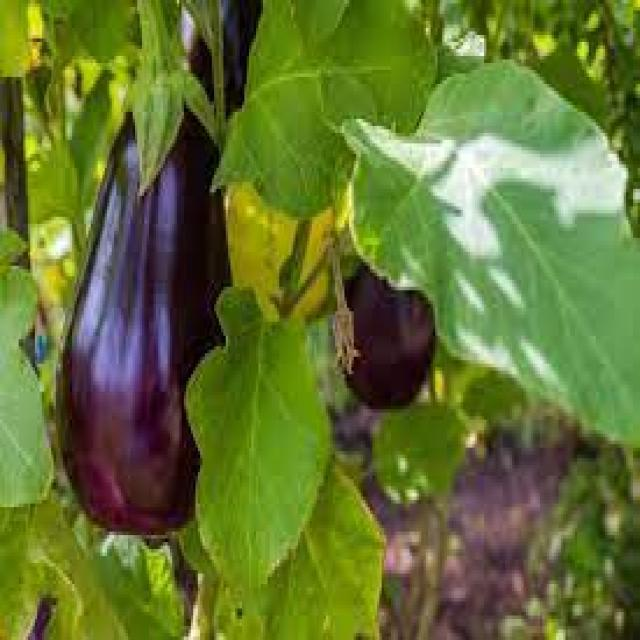Eggplant: (55, 1, 232, 536), (331, 175, 439, 406)
